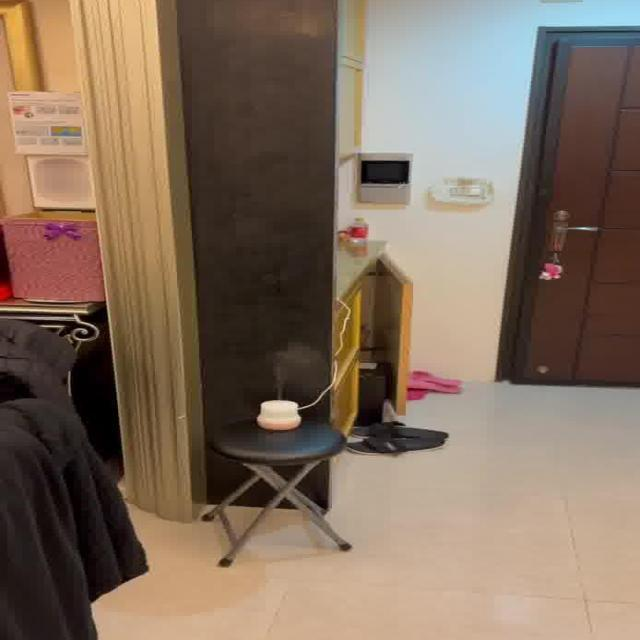fire: (266, 342, 319, 394)
